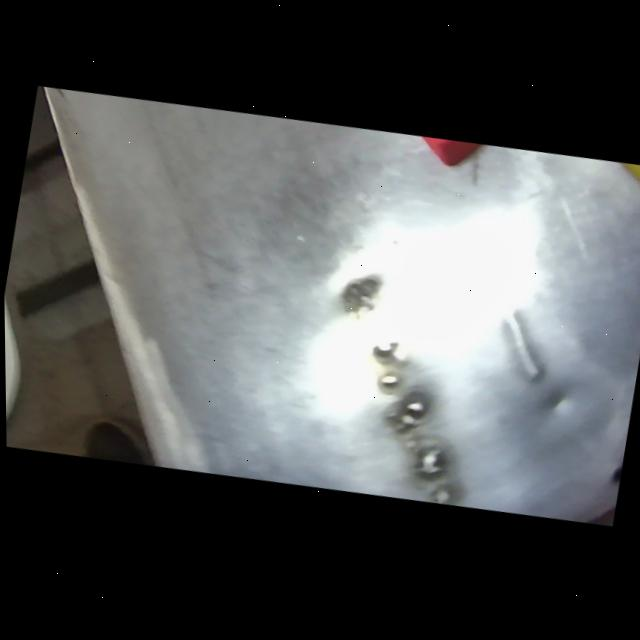redBox: (295, 115, 542, 195)
yellowBox: (529, 153, 640, 210)
